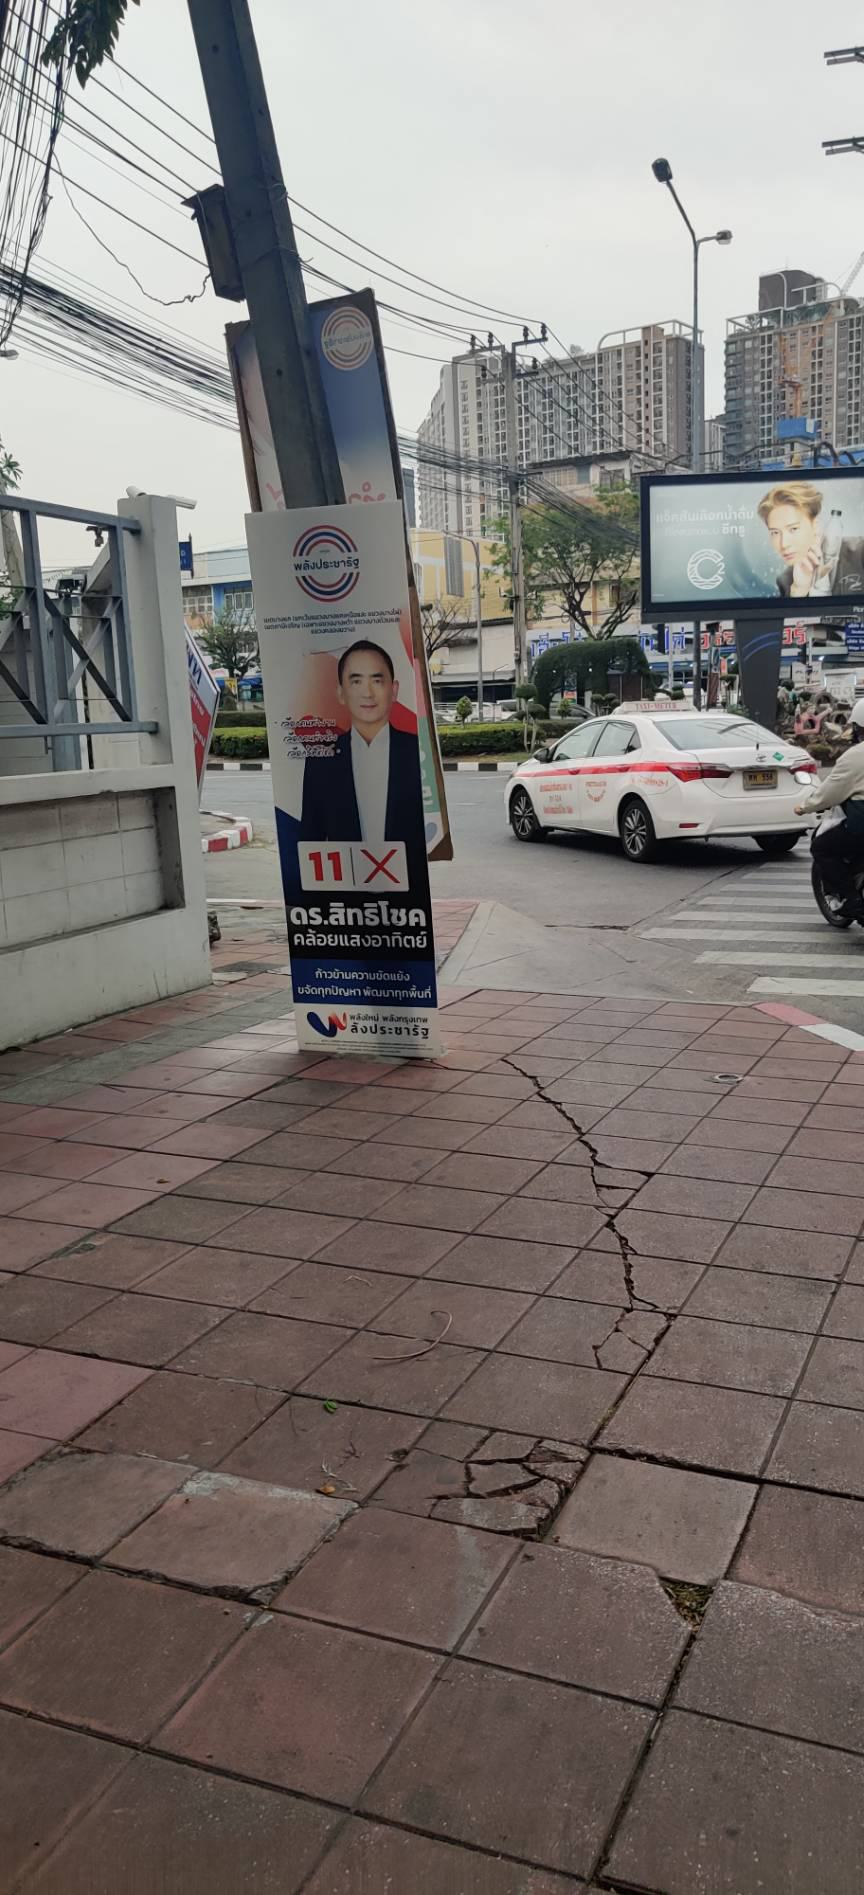Banner: (234, 504, 447, 1072)
